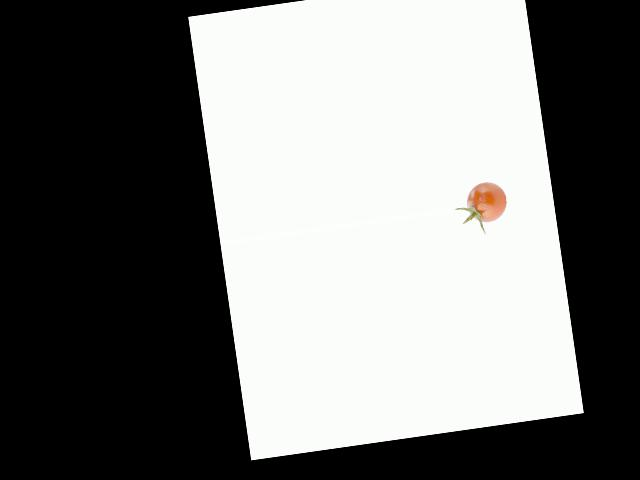tomato: (464, 179, 509, 223)
